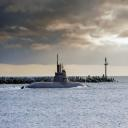submarine: (22, 52, 89, 88)
